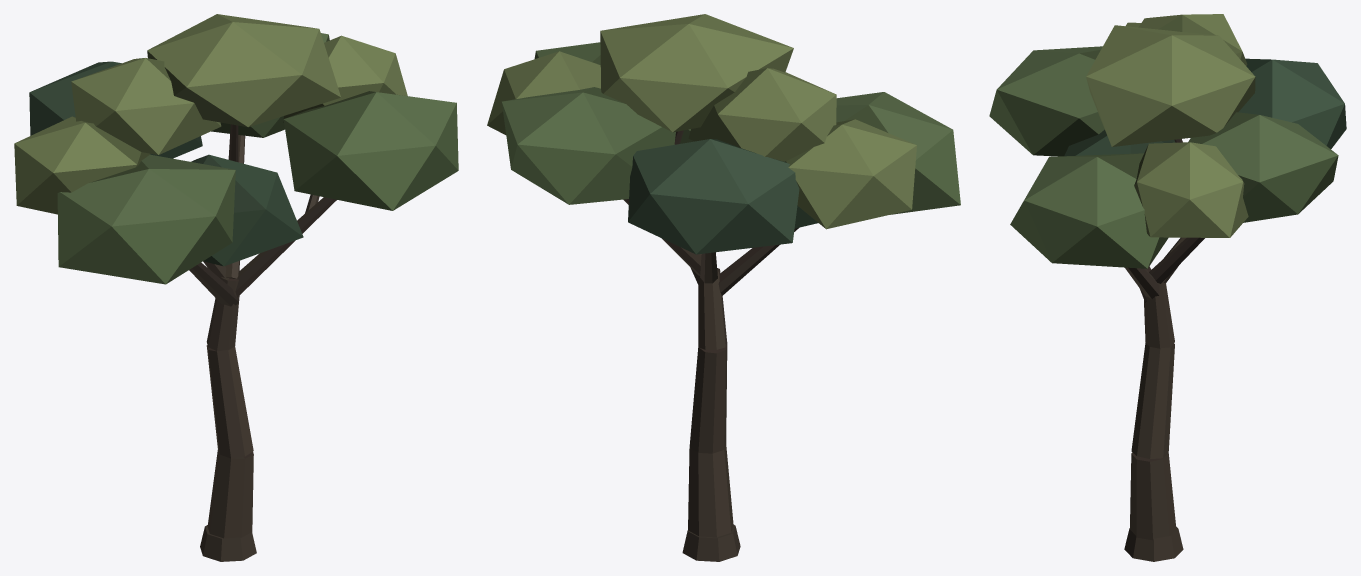
The model's file is prop_school_tree_a.glb.
3 views of the same model, side by side, from view 1: azimuth 30°, elevation 25°; view 2: azimuth 150°, elevation 25°; view 3: azimuth 270°, elevation 25° (orthographic). The views are drawn at different scales.
Visible parts, largest first — view 1: prop_school_tree_a; view 2: prop_school_tree_a; view 3: prop_school_tree_a.
Part boxes in pixels (box(x1,y1,x2,y2)): prop_school_tree_a: box(14, 14, 458, 561); prop_school_tree_a: box(487, 14, 960, 561); prop_school_tree_a: box(989, 14, 1346, 561).
Size of the model in its own units: 3.67 by 4.47 by 2.77.
